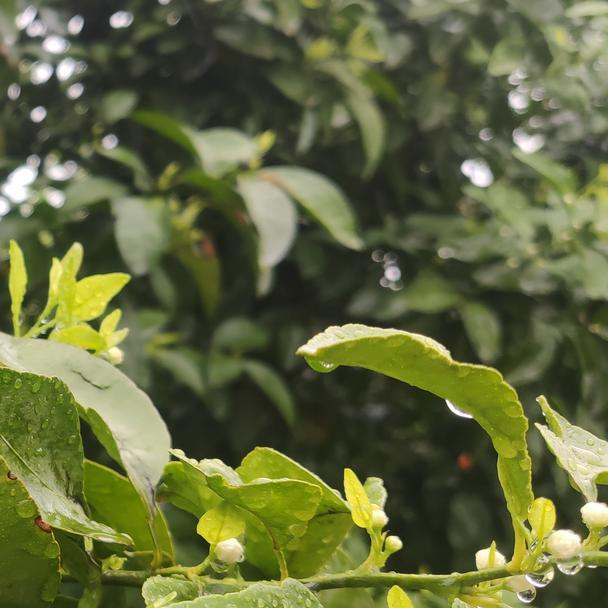shoot: (5, 238, 119, 361)
